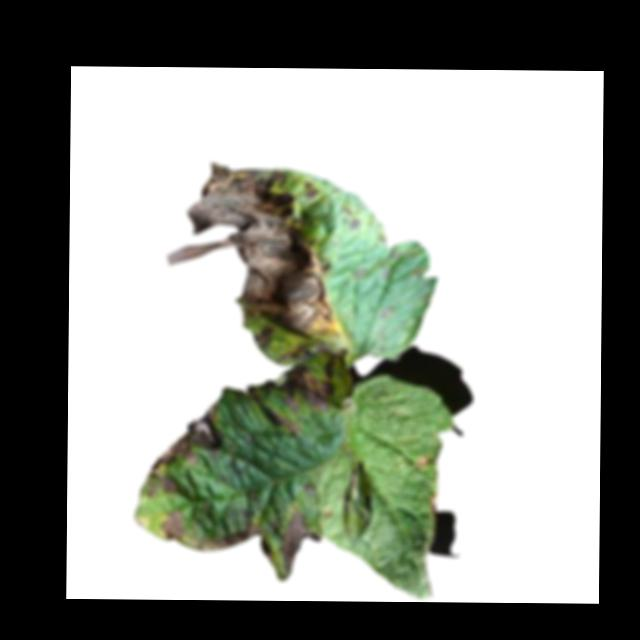Early_blight: (163, 162, 338, 359), (142, 401, 227, 501), (248, 361, 338, 438), (197, 518, 276, 564), (279, 507, 320, 577), (158, 507, 186, 543), (413, 455, 432, 470), (429, 494, 439, 513), (303, 482, 316, 496)
